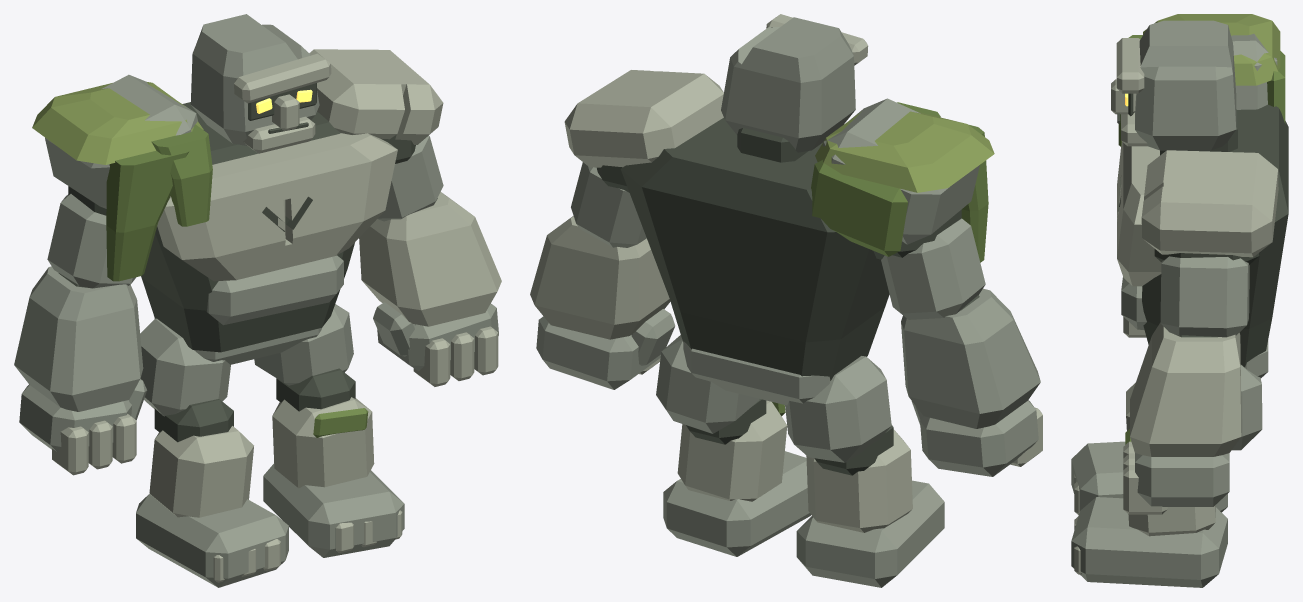
File: mirewarden-review.glb
The picture shows the model from 3 angles, left to right: view 1: azimuth 30°, elevation 25°; view 2: azimuth 150°, elevation 25°; view 3: azimuth 270°, elevation 25°; orthographic projection. The views are drawn at different scales.
Parts seen in each view (by area): view 1: Breastplate | single old lintel, Heavy forearm, Heavy forearm.001, Trunk | tapered foundation, Right shoulder | split cap, Head | worn standing stone, Broad planted foot, Broad planted foot.001, Shin carved face, Moss | shoulder mantle, Moss | long hanging fold, Shin carved face.001 (+24 smaller); view 2: Trunk | tapered foundation, Heavy forearm, Head | worn standing stone, Heavy forearm.001, Right shoulder | split cap, Moss | shoulder mantle, Broad planted foot, Broad planted foot.001, Left thigh, Upper arm, Shin carved face.001, Shin carved face (+13 smaller); view 3: Right shoulder | split cap, Heavy forearm.001, Head | worn standing stone, Broad planted foot.001, Trunk | tapered foundation, Upper arm.001, Palm.001, Breastplate | single old lintel, Moss | shoulder mantle, Broad planted foot, Shin carved face.001, Left shoulder | taller boundary stone (+10 smaller).
Boxes of the visible parts, bbox=[...] form: Breastplate | single old lintel: bbox=[157, 133, 397, 281]; Heavy forearm: bbox=[14, 266, 143, 411]; Heavy forearm.001: bbox=[359, 192, 501, 326]; Trunk | tapered foundation: bbox=[141, 102, 354, 352]; Right shoulder | split cap: bbox=[309, 49, 443, 144]; Head | worn standing stone: bbox=[190, 14, 319, 145]; Broad planted foot: bbox=[136, 494, 288, 587]; Broad planted foot.001: bbox=[263, 463, 404, 557]; Shin carved face: bbox=[149, 426, 253, 517]; Moss | shoulder mantle: bbox=[32, 82, 203, 164]; Moss | long hanging fold: bbox=[106, 150, 189, 281]; Shin carved face.001: bbox=[272, 397, 374, 488]; Trunk | tapered foundation: bbox=[620, 117, 889, 380]; Heavy forearm: bbox=[901, 288, 1040, 428]; Head | worn standing stone: bbox=[721, 17, 855, 152]; Heavy forearm.001: bbox=[530, 216, 670, 339]; Right shoulder | split cap: bbox=[564, 70, 723, 167]; Moss | shoulder mantle: bbox=[815, 111, 994, 192]; Broad planted foot: bbox=[796, 480, 944, 587]; Broad planted foot.001: bbox=[663, 451, 810, 556]; Left thigh: bbox=[785, 356, 891, 462]; Upper arm: bbox=[881, 218, 985, 319]; Shin carved face.001: bbox=[677, 400, 787, 501]; Shin carved face: bbox=[806, 429, 912, 532]; Right shoulder | split cap: bbox=[1141, 150, 1278, 257]; Heavy forearm.001: bbox=[1130, 322, 1241, 456]; Head | worn standing stone: bbox=[1135, 20, 1236, 150]; Broad planted foot.001: bbox=[1071, 497, 1227, 587]; Trunk | tapered foundation: bbox=[1142, 104, 1288, 367]; Upper arm.001: bbox=[1160, 256, 1249, 337]; Palm.001: bbox=[1135, 453, 1229, 506]; Breastplate | single old lintel: bbox=[1117, 142, 1161, 286]; Moss | shoulder mantle: bbox=[1143, 14, 1280, 85]; Broad planted foot: bbox=[1071, 441, 1227, 512]; Shin carved face.001: bbox=[1128, 505, 1215, 536]; Left shoulder | taller boundary stone: bbox=[1231, 33, 1277, 109].
Size of the model in its own units: 3.2 by 3.38 by 1.33.
